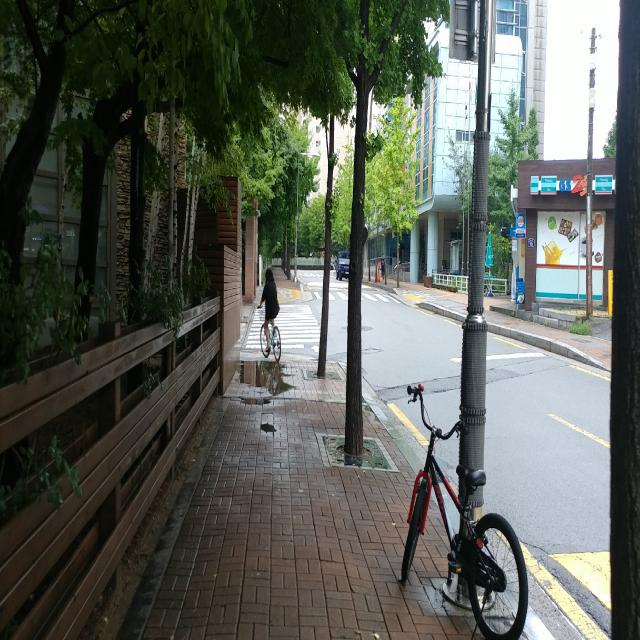횡단보도: (245, 304, 321, 354), (312, 278, 396, 300)
